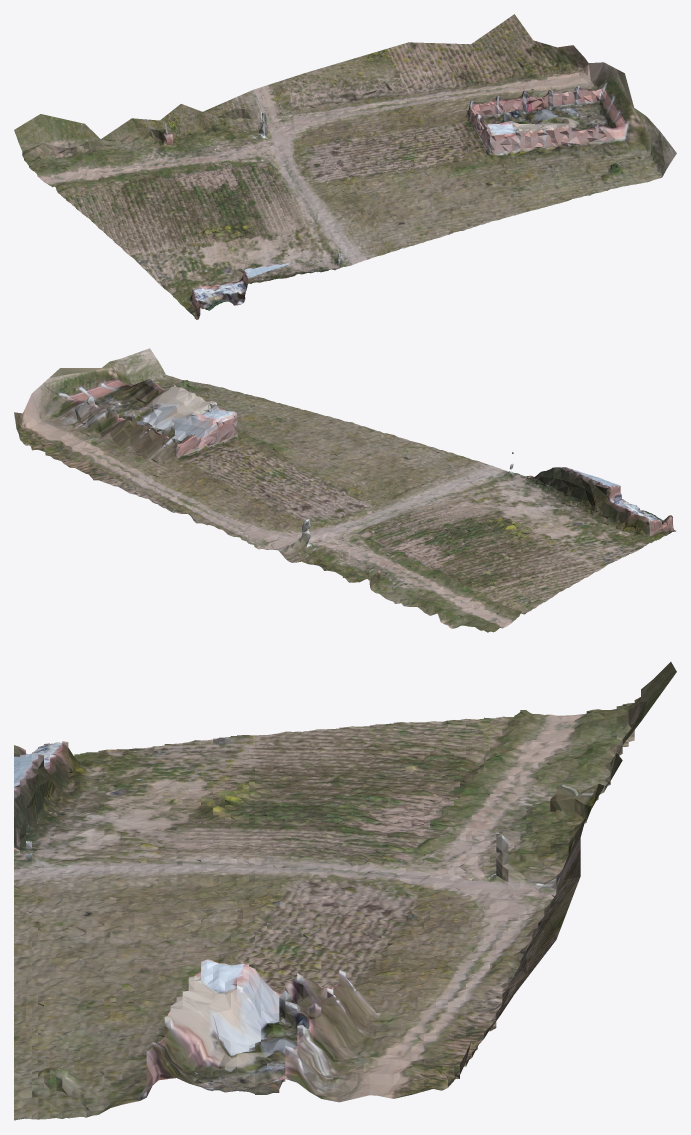
File: MODELO38.GLB
The picture shows the model from 3 angles, top to bottom: view 1: azimuth 30°, elevation 25°; view 2: azimuth 150°, elevation 25°; view 3: azimuth 270°, elevation 25°; orthographic projection. The views are drawn at different scales.
Size of the model in its own units: 85.88 by 15.85 by 55.
1 material, 1 textured.
